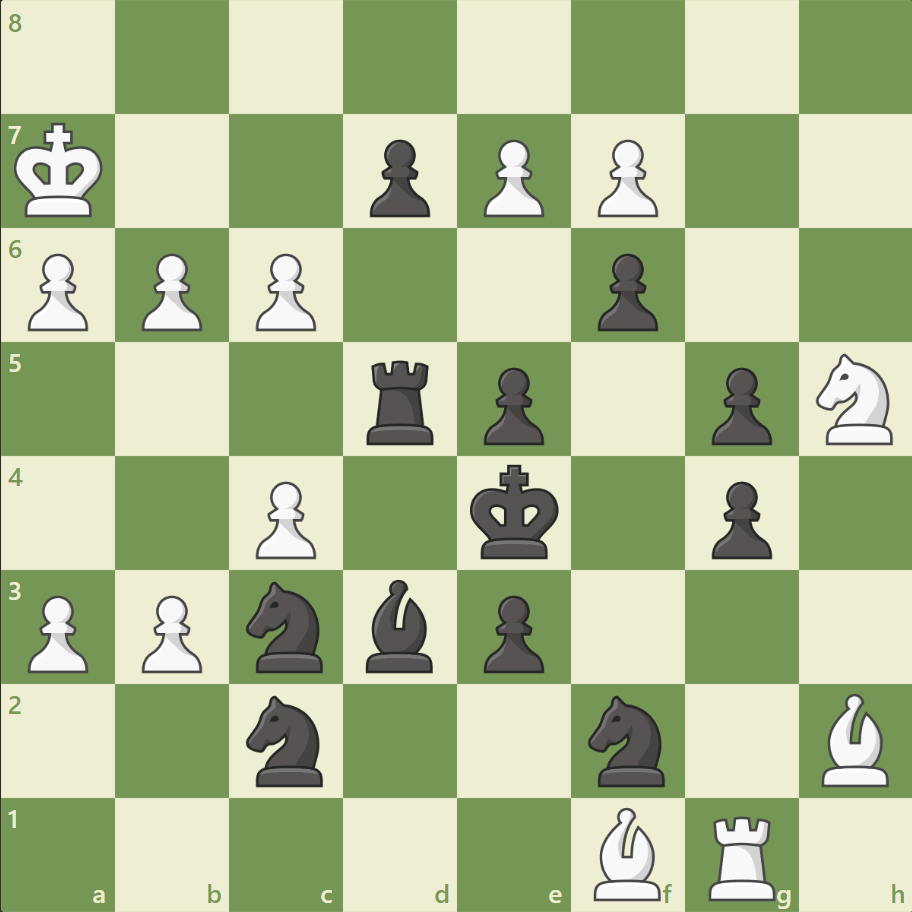B: (812, 687, 896, 790), (585, 801, 669, 904)
K: (11, 117, 111, 225)
N: (806, 348, 903, 450)
P: (474, 132, 549, 223), (20, 246, 95, 337), (133, 246, 208, 337), (247, 246, 322, 337), (247, 473, 322, 564), (20, 586, 95, 677), (133, 586, 208, 677), (588, 132, 662, 223)
R: (700, 806, 783, 904)
b: (358, 574, 442, 676)
k: (465, 458, 565, 566)
n: (238, 688, 335, 791), (579, 688, 676, 791), (238, 575, 335, 677)
p: (474, 359, 549, 450), (701, 359, 776, 450), (701, 473, 776, 564), (474, 586, 549, 677), (361, 132, 435, 223), (588, 246, 662, 337)
r: (360, 352, 442, 449)
